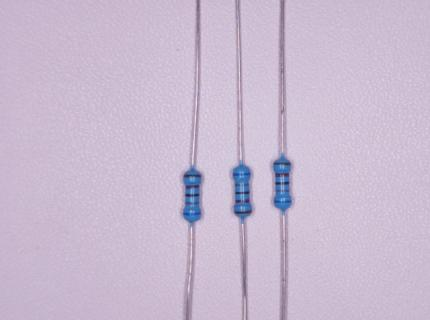Black band: (235, 190, 250, 195), (275, 181, 290, 185), (186, 193, 199, 197)
Blue band: (183, 212, 201, 216), (274, 200, 292, 203), (233, 173, 250, 176)
Brown band: (183, 174, 202, 178), (234, 210, 252, 214), (273, 162, 291, 166)
Grey band: (235, 183, 249, 187), (276, 189, 290, 193), (186, 201, 199, 205)
Red band: (185, 185, 199, 189), (235, 199, 249, 203), (275, 173, 289, 177)
